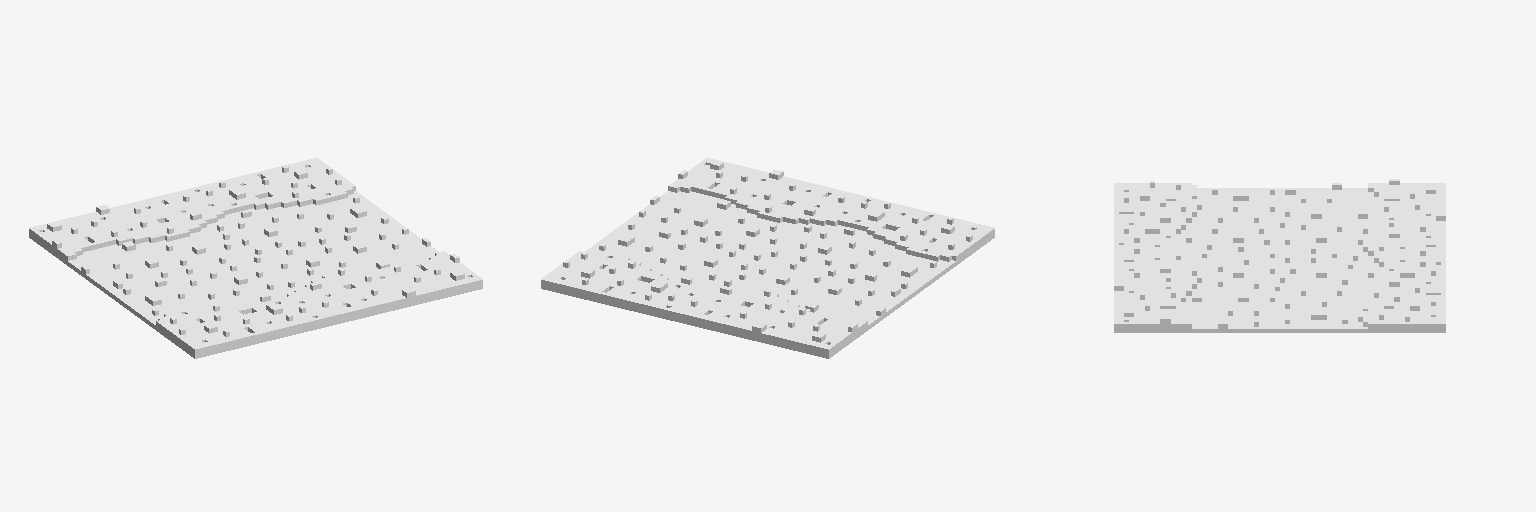
Rendered from EarthPath_1.obj.
The picture shows the model from 3 angles: view 1: azimuth 30°, elevation 25°; view 2: azimuth 150°, elevation 25°; view 3: azimuth 270°, elevation 25°; orthographic projection.
Parts seen in each view (by area): view 1: EarthPath_1.001; view 2: EarthPath_1.001; view 3: EarthPath_1.001.
Boxes of the visible parts, <box> form: EarthPath_1.001: <box>29,158,482,358</box>; EarthPath_1.001: <box>541,158,994,358</box>; EarthPath_1.001: <box>1114,179,1445,332</box>.
Size of the model in its own units: 1 by 0.0469 by 1.